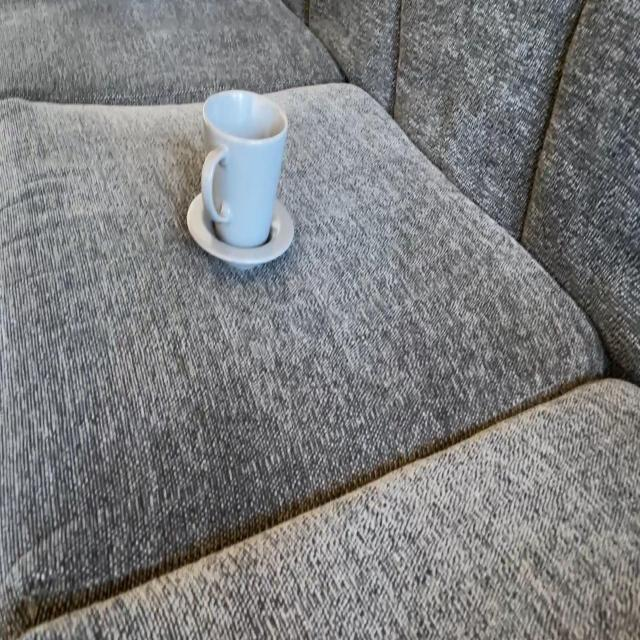cup: (187, 89, 294, 270)
